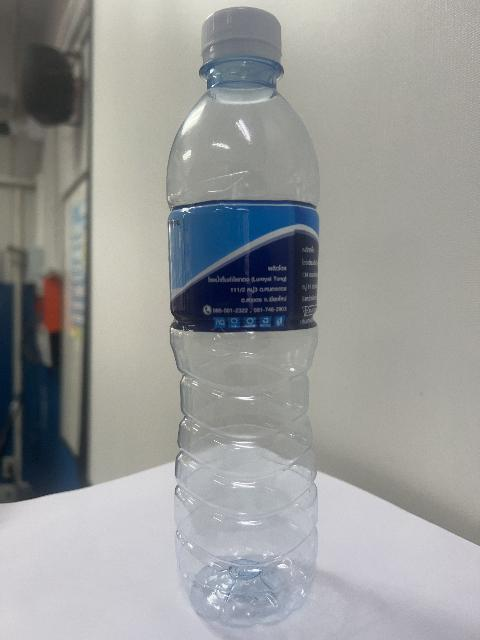bottle: (167, 8, 319, 626)
